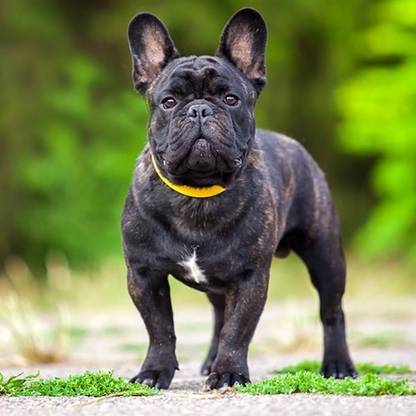bulldog: (118, 8, 364, 394)
